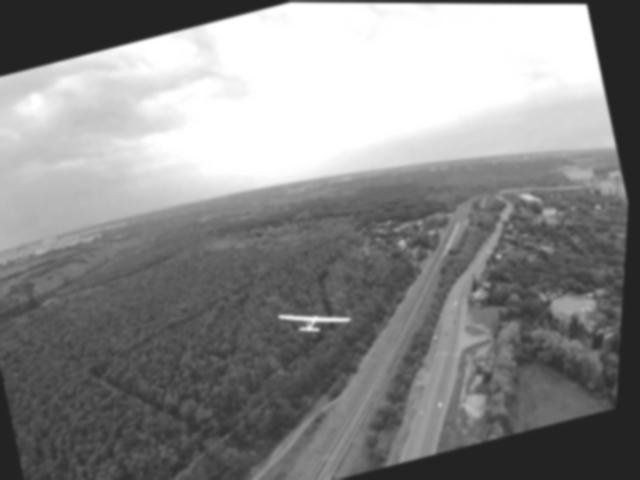hedef: (271, 286, 359, 354)
